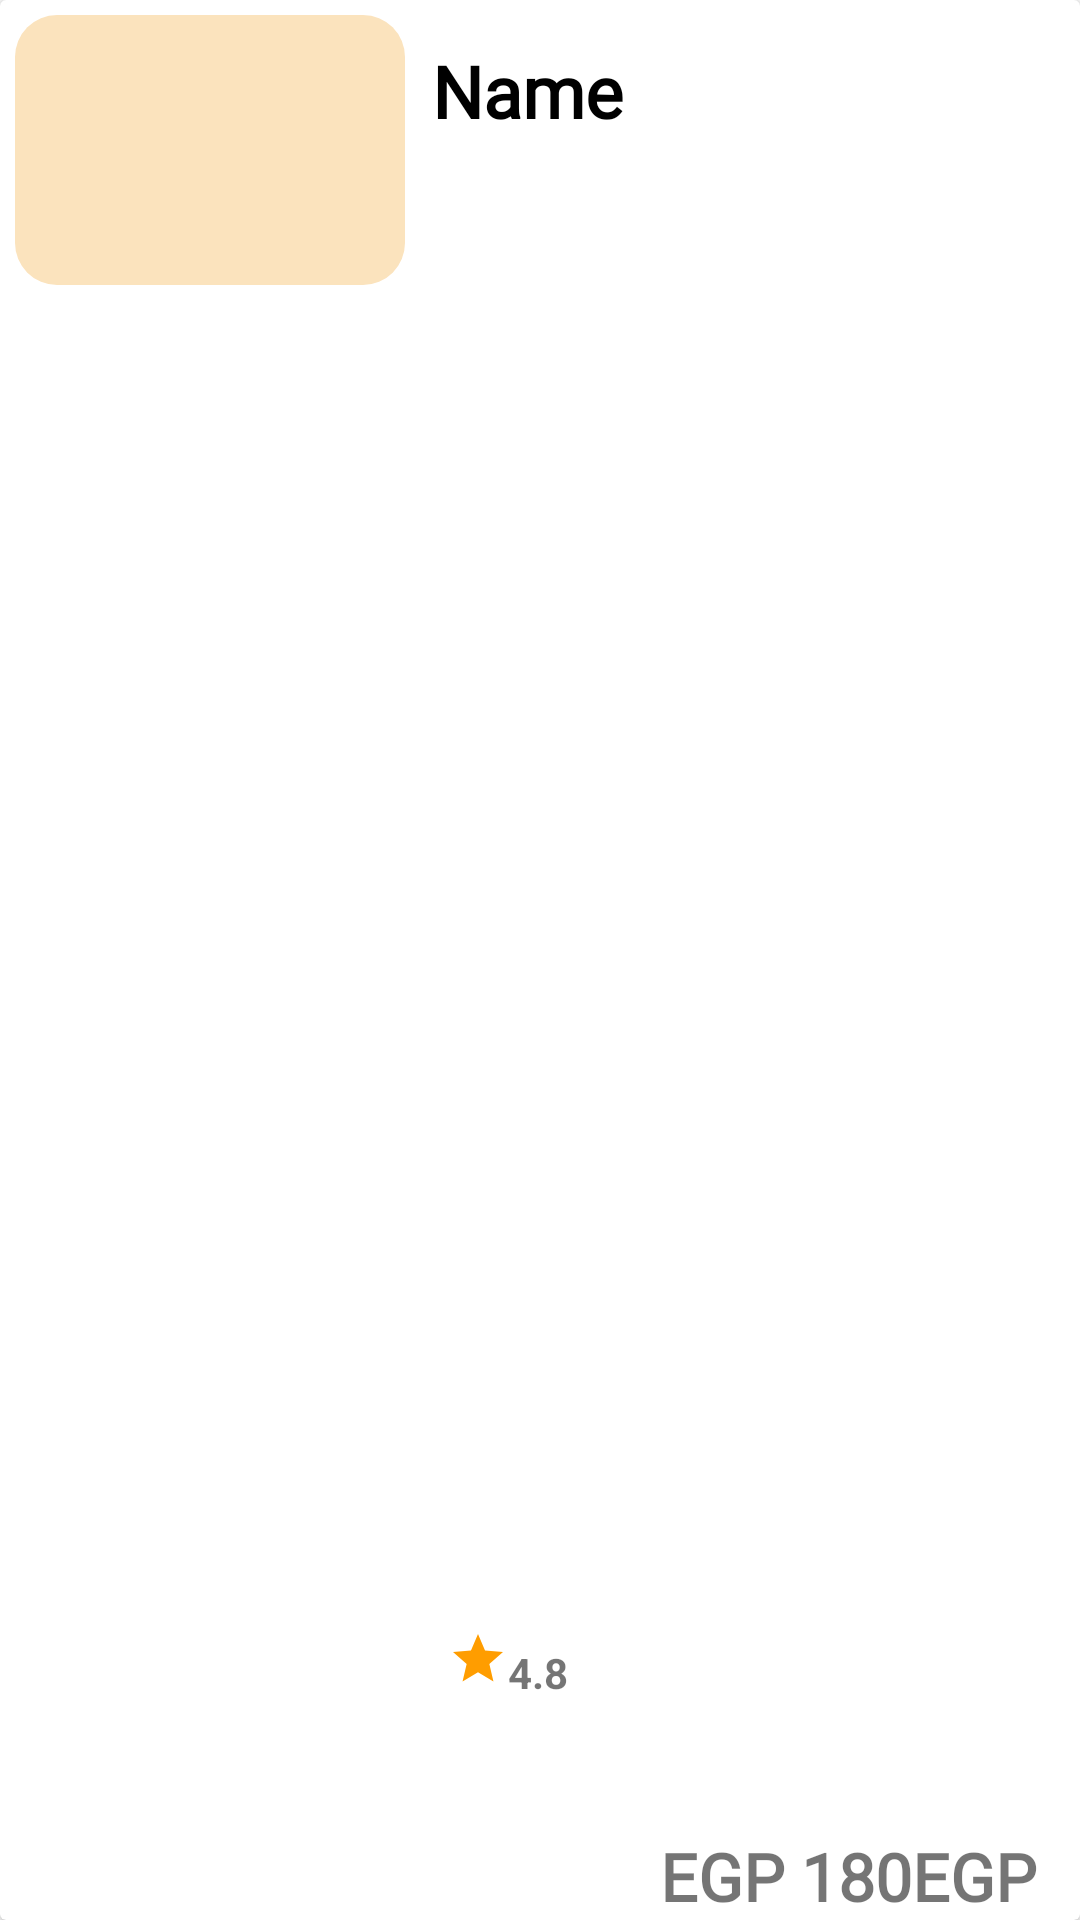

Screen size 1080px x 1920px. Icon name, then its box in pixels as (x1, y1, x2, y2):
star: (453, 1634, 503, 1682)
